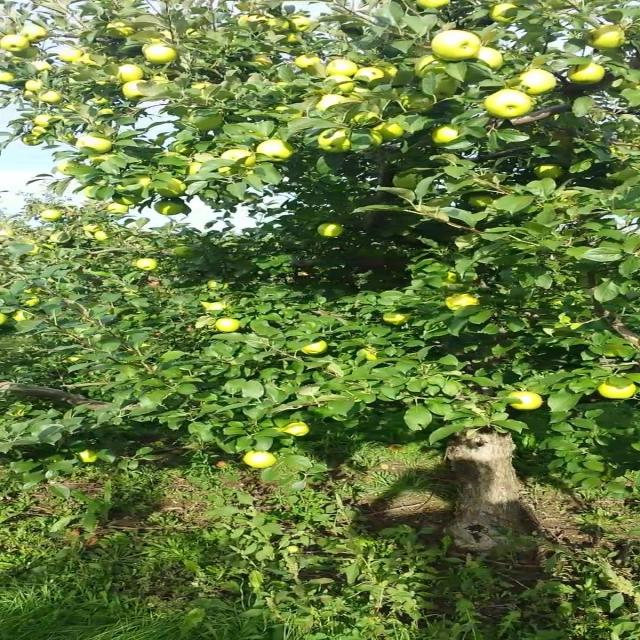apple: (433, 32, 482, 62), (483, 92, 533, 120), (511, 72, 560, 96), (255, 140, 297, 163), (397, 92, 439, 114), (589, 28, 628, 51), (468, 48, 505, 71), (596, 380, 638, 400), (412, 56, 448, 79), (568, 64, 606, 85), (141, 44, 178, 65), (319, 132, 356, 153), (220, 148, 258, 168), (511, 392, 548, 412), (447, 292, 484, 311), (191, 112, 226, 132), (120, 80, 149, 103), (241, 452, 277, 470), (156, 180, 190, 199), (369, 124, 407, 141), (77, 136, 114, 153), (113, 64, 144, 84), (490, 4, 519, 24), (433, 128, 464, 146), (269, 108, 306, 123), (369, 64, 398, 83), (156, 200, 190, 216), (326, 60, 359, 76), (355, 68, 386, 85), (433, 80, 460, 99), (532, 164, 564, 180), (312, 80, 341, 97), (20, 28, 50, 44), (13, 48, 41, 64), (276, 424, 313, 436), (319, 224, 348, 239), (106, 24, 135, 39), (291, 16, 318, 32), (397, 172, 421, 190), (134, 32, 167, 45), (77, 52, 103, 68), (333, 76, 356, 94), (305, 340, 329, 356), (184, 160, 206, 177), (383, 312, 409, 326), (348, 88, 372, 103), (191, 84, 215, 99), (6, 36, 28, 52), (212, 164, 238, 177), (63, 48, 84, 64), (468, 196, 496, 208), (248, 56, 276, 68), (134, 176, 156, 191), (220, 320, 244, 333), (298, 56, 322, 69), (141, 32, 167, 44), (134, 176, 156, 190), (419, 0, 452, 9), (35, 116, 62, 127), (134, 260, 158, 272), (120, 196, 146, 207), (77, 452, 100, 464), (20, 136, 43, 148), (269, 20, 292, 32), (191, 160, 208, 176), (106, 204, 128, 216), (42, 92, 64, 104), (191, 84, 215, 95), (284, 32, 304, 45), (84, 184, 100, 200), (205, 304, 233, 313), (42, 212, 64, 223), (28, 80, 46, 93), (205, 280, 228, 290), (369, 132, 384, 147), (92, 96, 114, 106), (241, 16, 265, 25), (13, 312, 34, 322), (148, 76, 171, 85), (362, 348, 379, 360), (63, 164, 80, 176), (92, 232, 110, 242), (447, 272, 462, 284), (63, 356, 85, 364), (177, 248, 192, 259), (92, 156, 110, 165), (84, 224, 103, 232), (35, 64, 50, 74), (28, 300, 43, 308), (35, 128, 50, 136), (241, 4, 256, 12), (63, 104, 78, 112), (99, 108, 114, 116), (6, 72, 16, 83), (0, 312, 9, 324), (6, 228, 16, 237), (28, 92, 39, 100)
